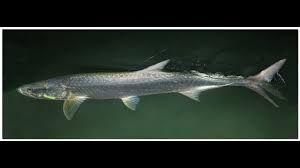Tenpounder: (16, 57, 290, 121)
